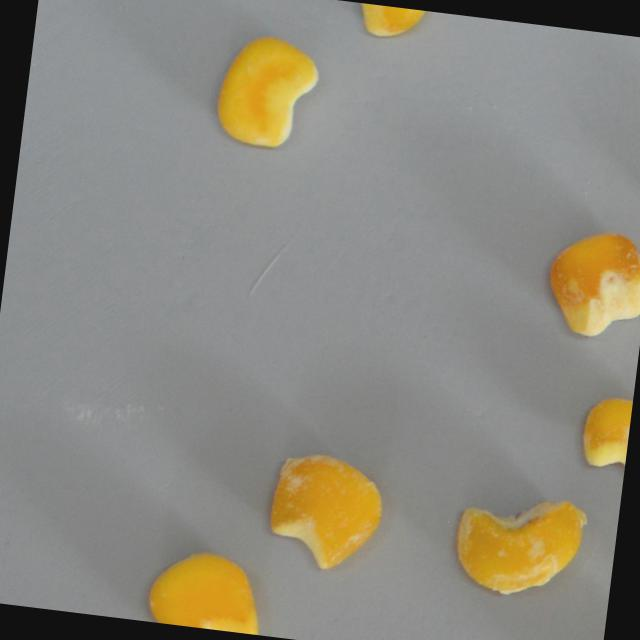no_canjicado: (210, 33, 321, 154), (143, 545, 266, 635), (332, 0, 428, 42)
pelicula: (449, 489, 590, 602), (263, 450, 388, 575), (539, 224, 640, 342), (575, 392, 633, 483)
